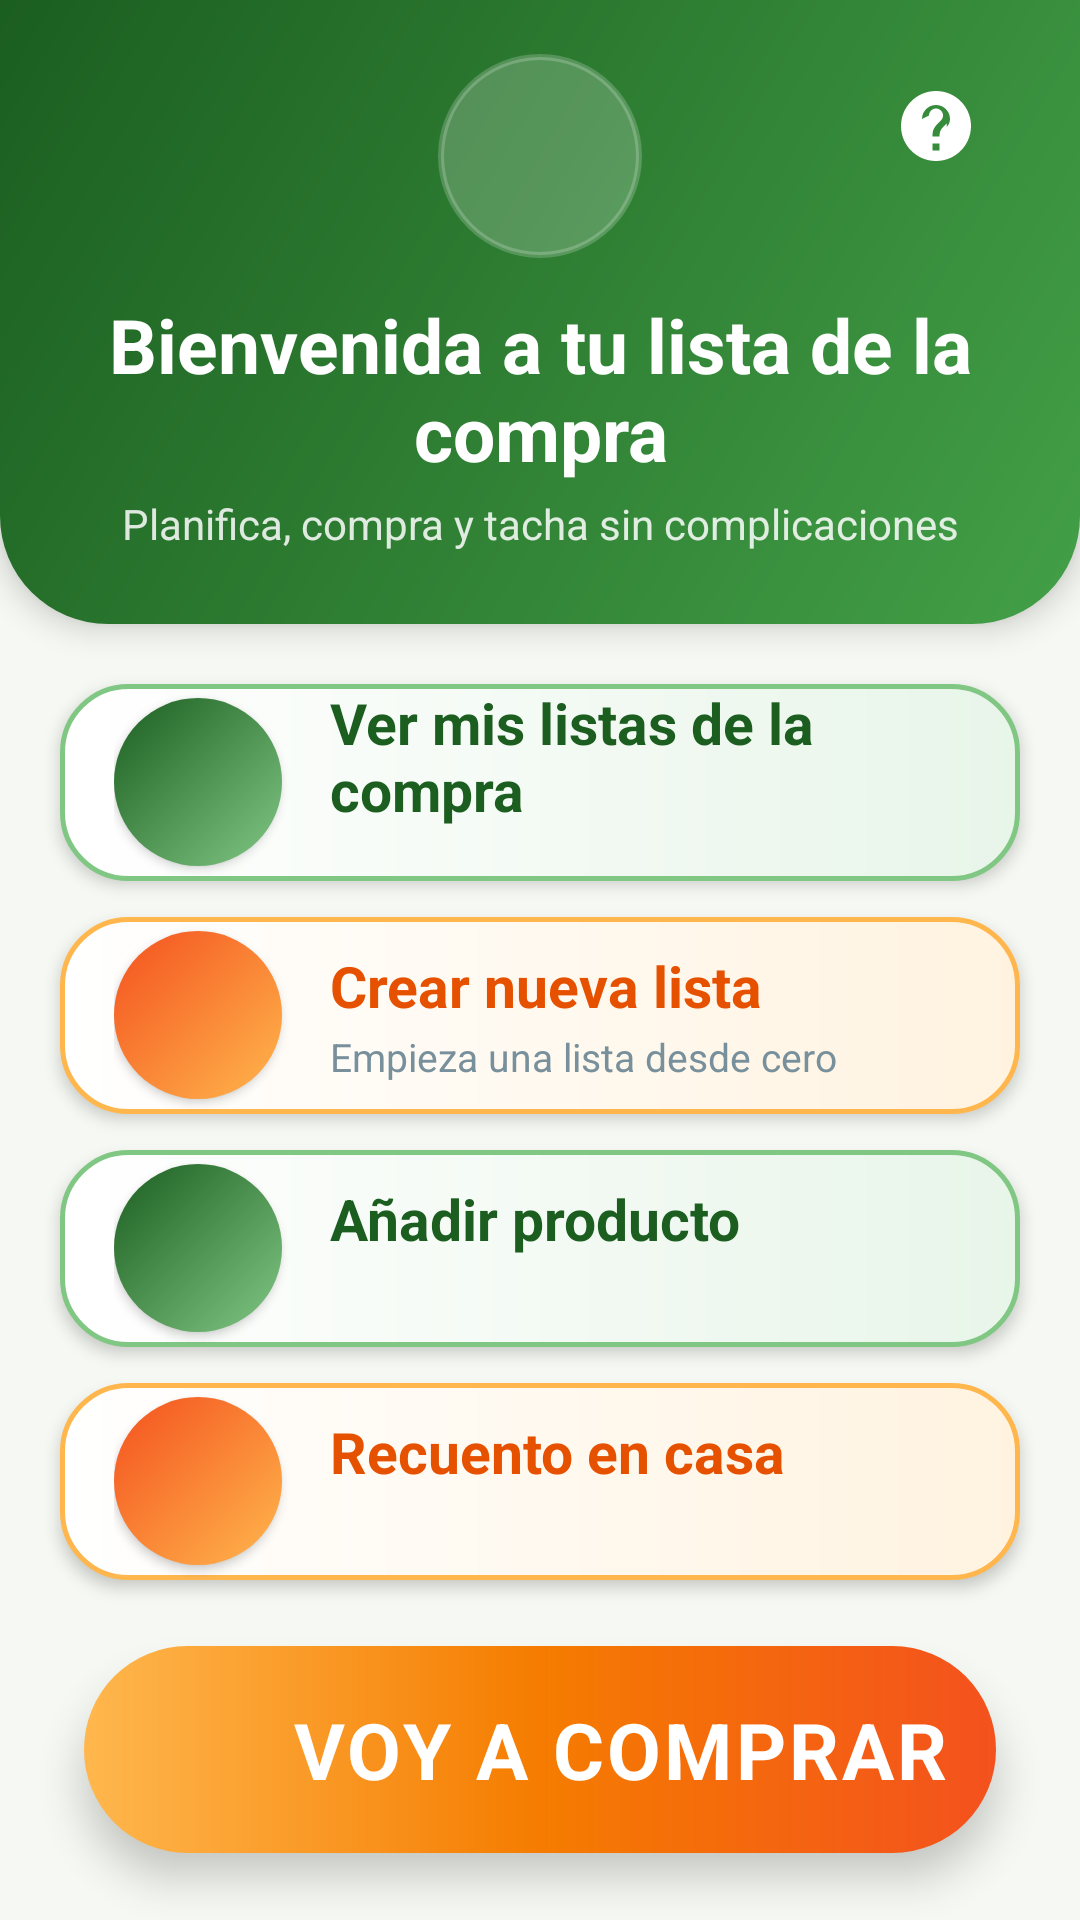

Named icons in this screenshot (1080w x 1920h) and their bounding boxes, (x1, y1, x2, y2):
Abrir el tutorial: (901, 91, 971, 161)
